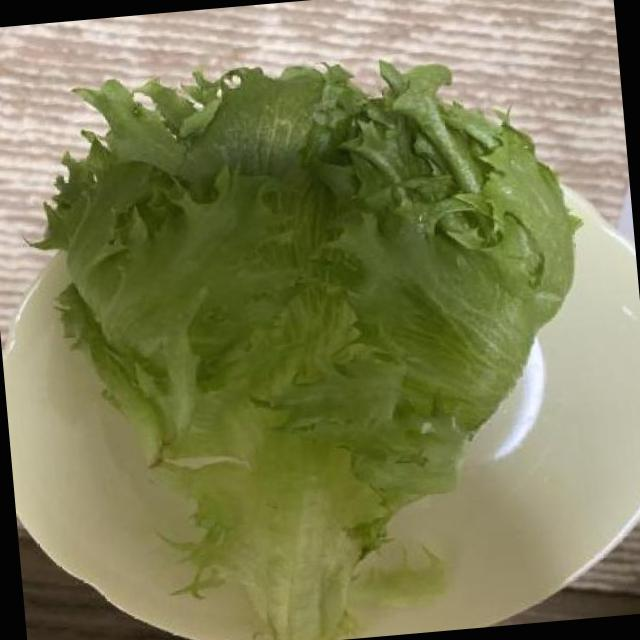Lettuce-Ready-to-Harvest: (37, 62, 577, 640)
